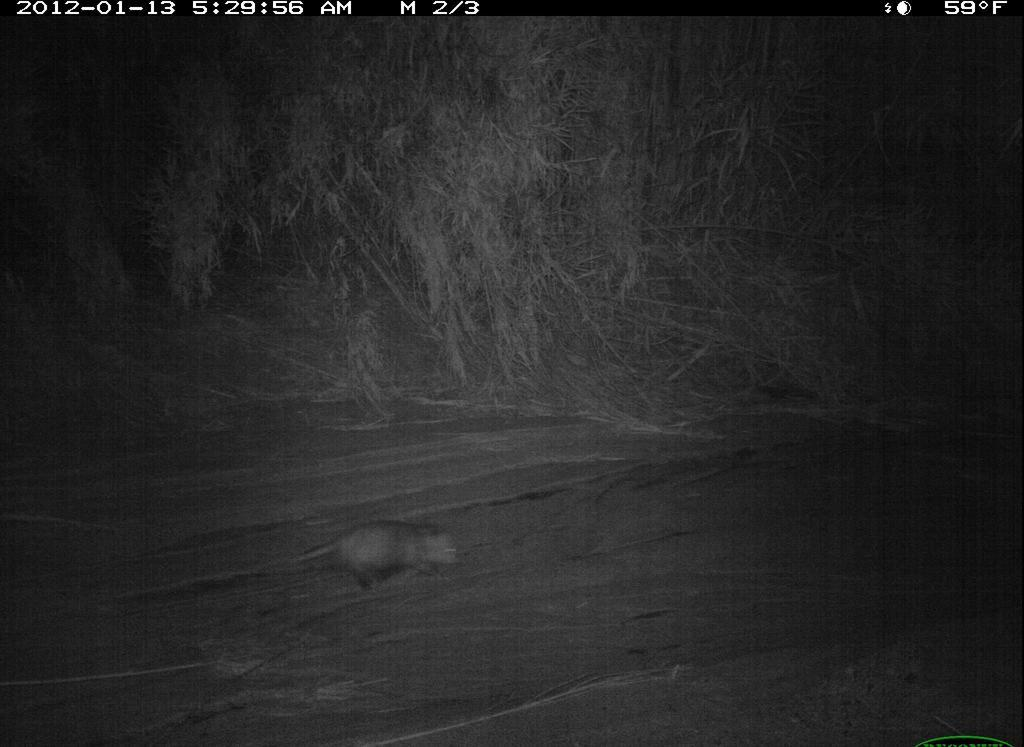opossum: (248, 520, 464, 597)
